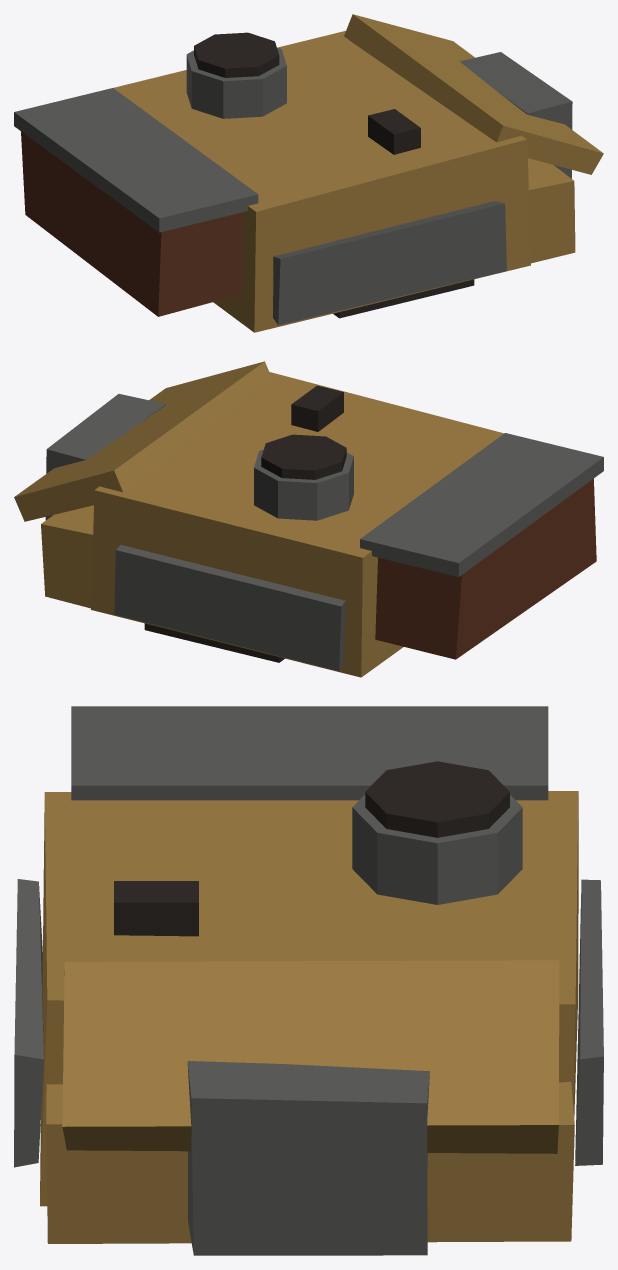
File: wrec_tank.glb
The picture shows the model from 3 angles, top to bottom: view 1: azimuth 30°, elevation 25°; view 2: azimuth 150°, elevation 25°; view 3: azimuth 270°, elevation 25°; orthographic projection. The views are drawn at different scales.
Visible parts, largest first — view 1: wrec_tank; view 2: wrec_tank; view 3: wrec_tank.
Boxes of the visible parts, x1,y1,x2,y2 form: wrec_tank: (14, 14, 603, 332); wrec_tank: (14, 361, 603, 677); wrec_tank: (14, 706, 603, 1255).
Bounding box in the file's own units: 1 × 0.4 × 0.6929.
